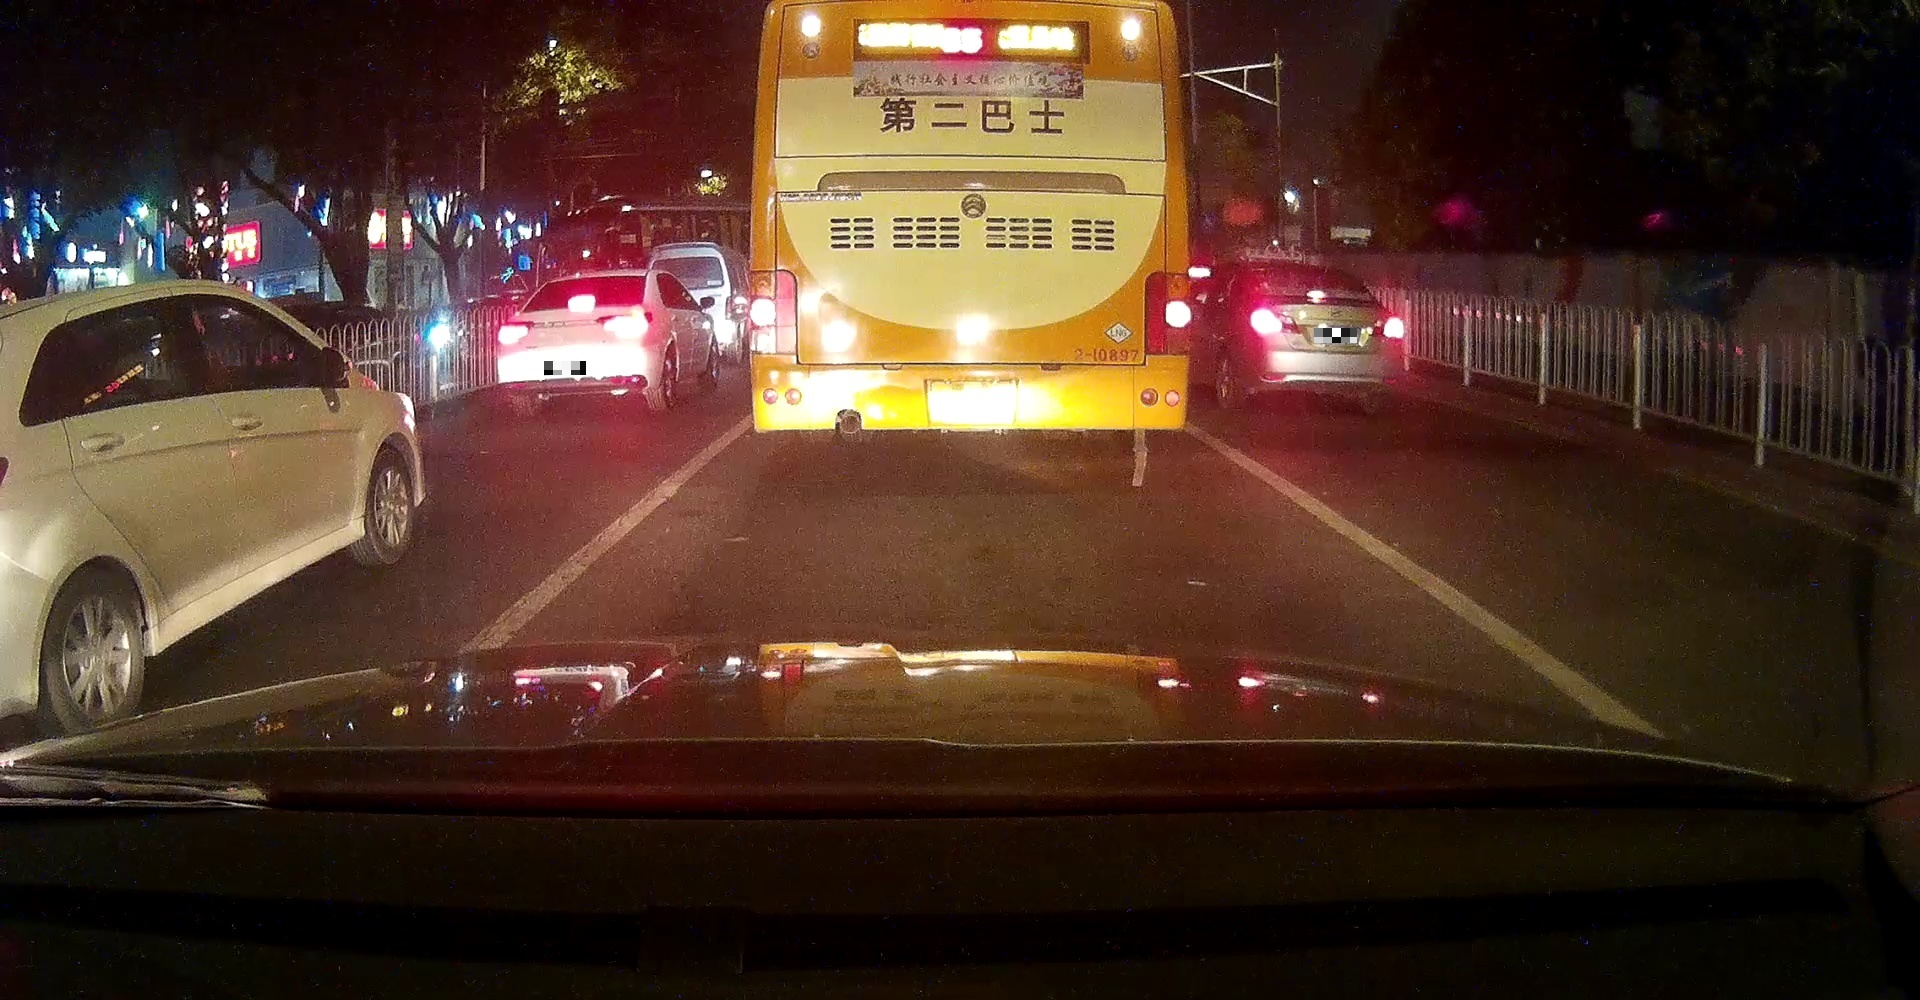L_light: (747, 272, 795, 357), (1250, 308, 1302, 335), (497, 320, 535, 344)
R_light: (1144, 272, 1189, 355), (592, 312, 651, 335), (1371, 315, 1404, 339)
T_light: (935, 5, 979, 16), (566, 294, 596, 311), (1305, 289, 1327, 297)
night-brake: (1247, 261, 1404, 415), (497, 269, 653, 415)
night-no: (745, 0, 1192, 445)
plate_1: (543, 360, 585, 376)
plate_2: (1314, 327, 1357, 343)
